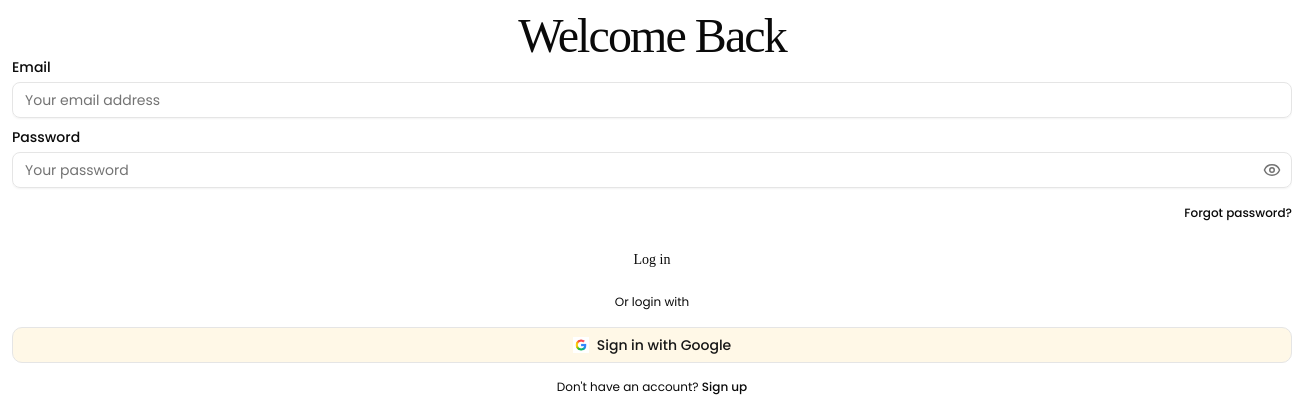
Test: LoginForm › toggles password visibility without clearing the entered password
The width and height of the screenshot is (1304, 412).
Type "password123" into the password field labelled "Password" at (652, 170), box left=12, top=152, right=1292, bottom=188
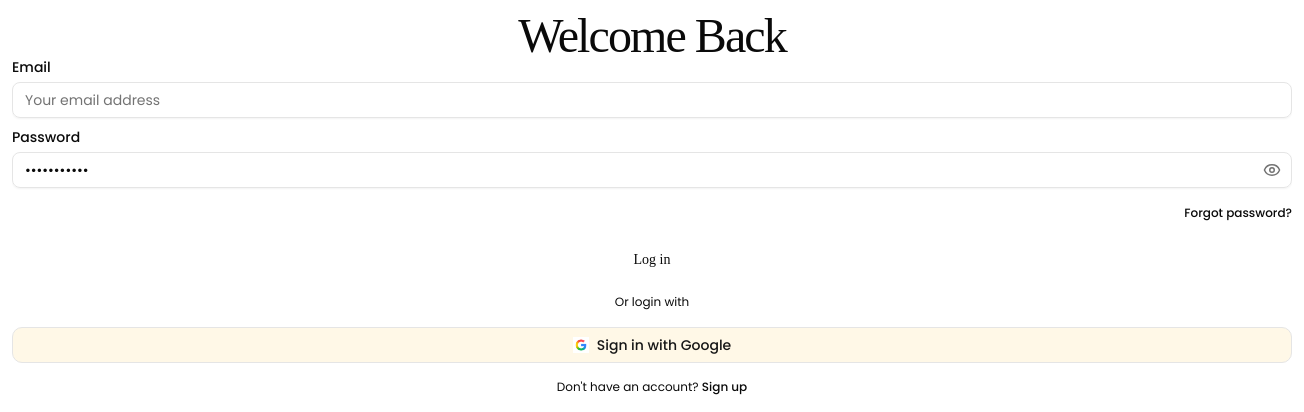
Click the button named "Show password" at (1272, 170), box left=1252, top=152, right=1292, bottom=188
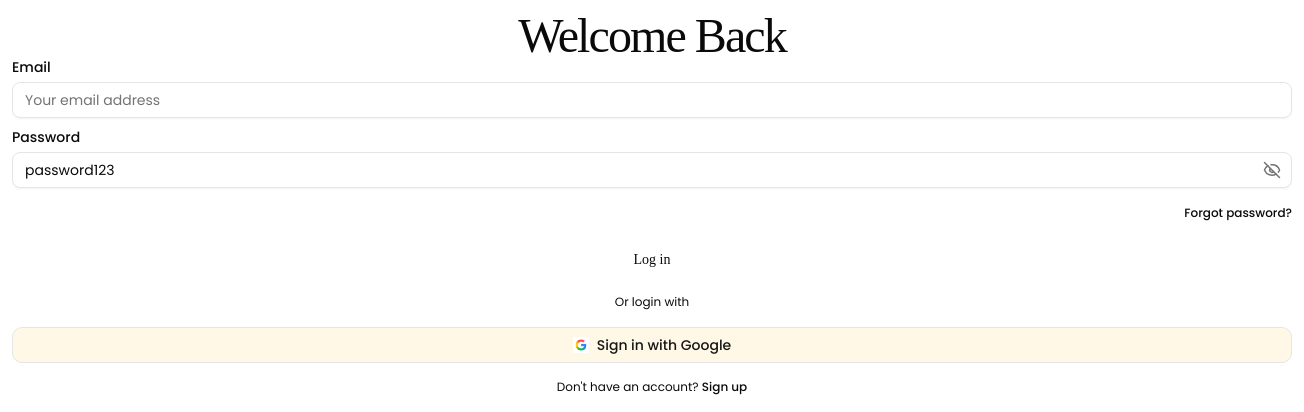
Expected: the field labelled "Password" shows its text, left=12, top=152, right=1292, bottom=188
Expected: the button named "Hide password" is shown, left=1252, top=152, right=1292, bottom=188
